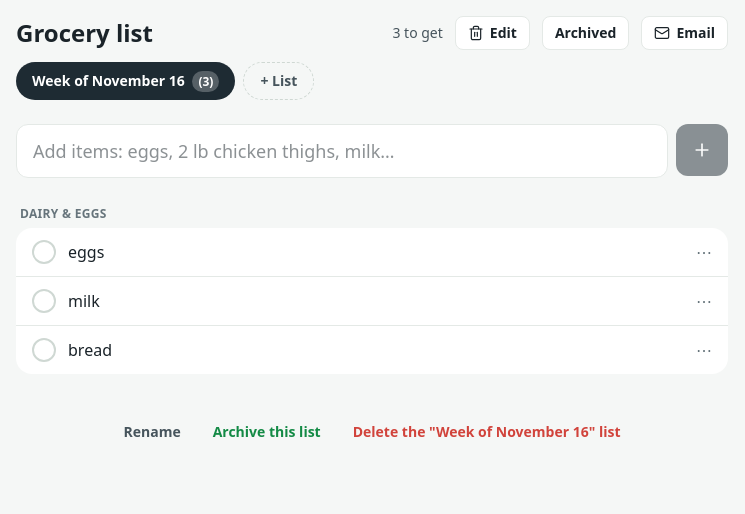
Test case: grocery list: edit mode › selects several items and deletes them in one call
Later steps or results of the test are not shown.
What coordinates should you click on to do the following:
click the button with aria-label "Select items to delete"
I would click on:
 (492, 33)
Its box is [455,16,530,50].
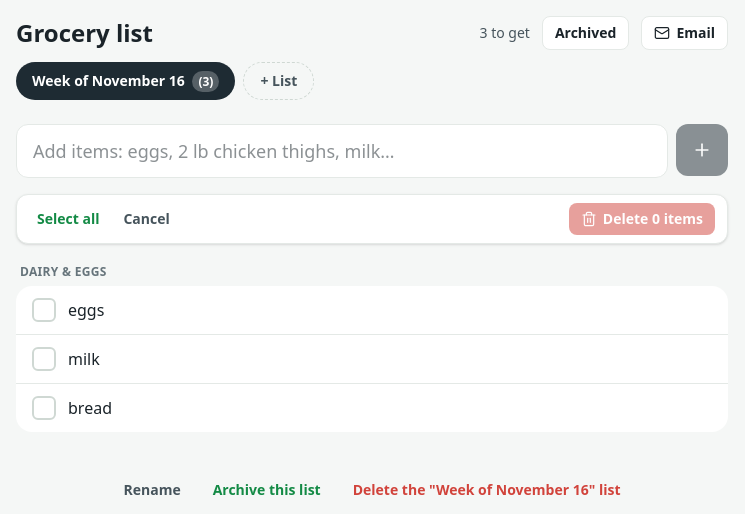
What coordinates should you click on to do the following:
click the checkbox named "Select eggs"
I would click on:
 (86, 310)
Its box is [16,286,728,334].
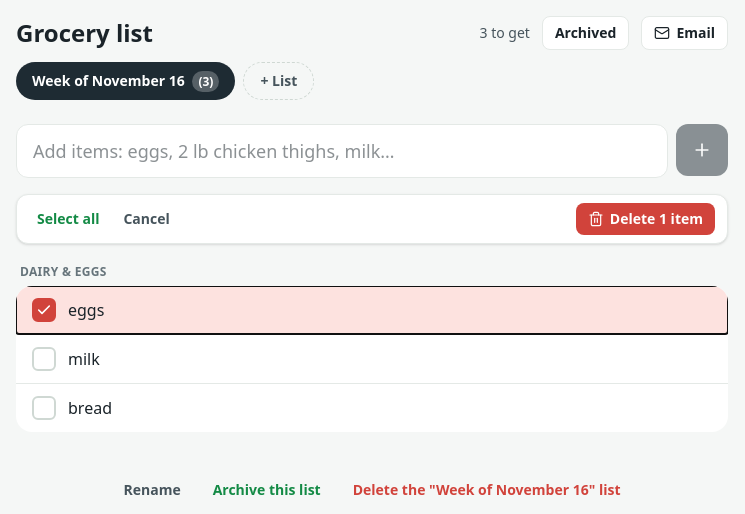
What coordinates should you click on to do the following:
click the checkbox named "Select milk"
I would click on:
 (84, 359)
Its box is [16,335,728,383].
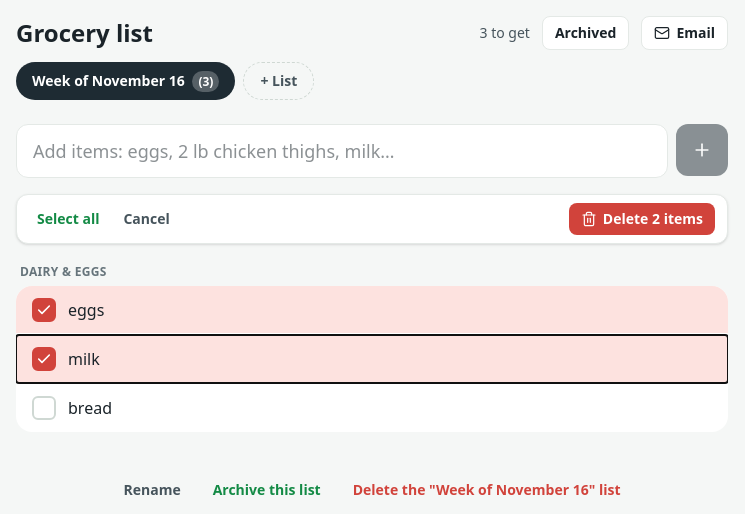
What coordinates should you click on to do the following:
click the button "Delete 2 items"
I would click on:
 (642, 219)
Its box is [569,203,715,235].
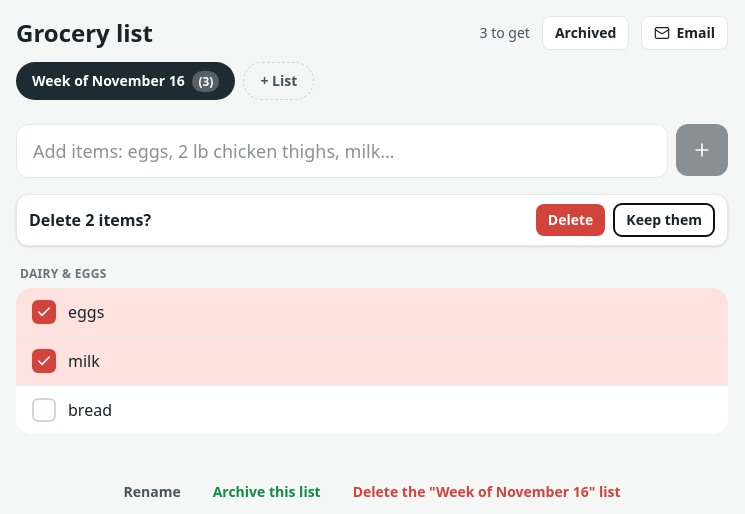
Check: the text "Delete 2 items?" is shown, box [29,208,151,232]
